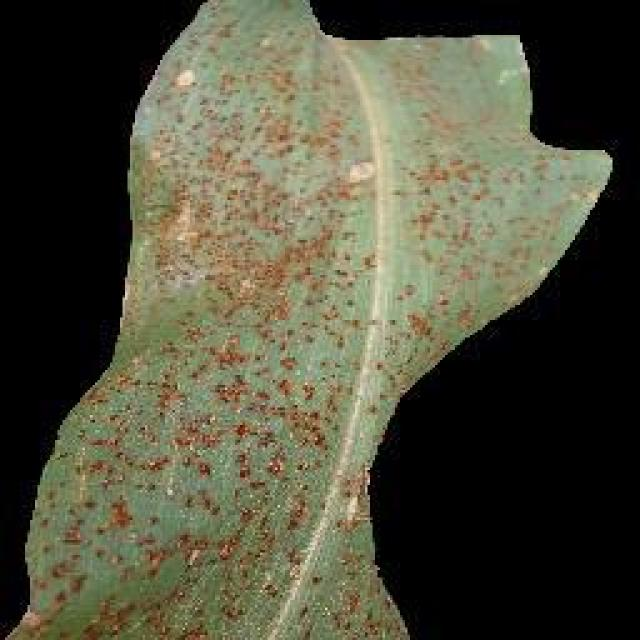Corn Common Rust: (155, 125, 485, 570)
